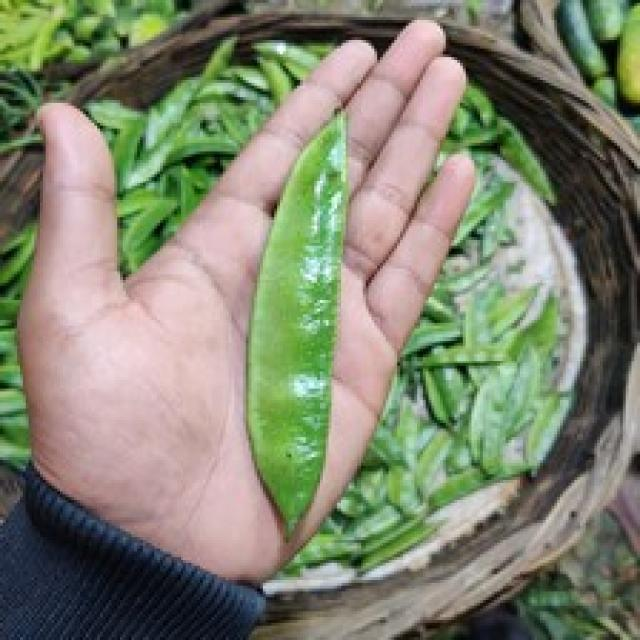Bean: (243, 106, 348, 540)
